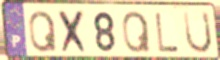8: (92, 10, 118, 54)
L: (154, 11, 181, 54)
Q: (121, 10, 153, 55), (28, 10, 59, 55)
U: (182, 10, 214, 56)
X: (56, 9, 91, 55)
